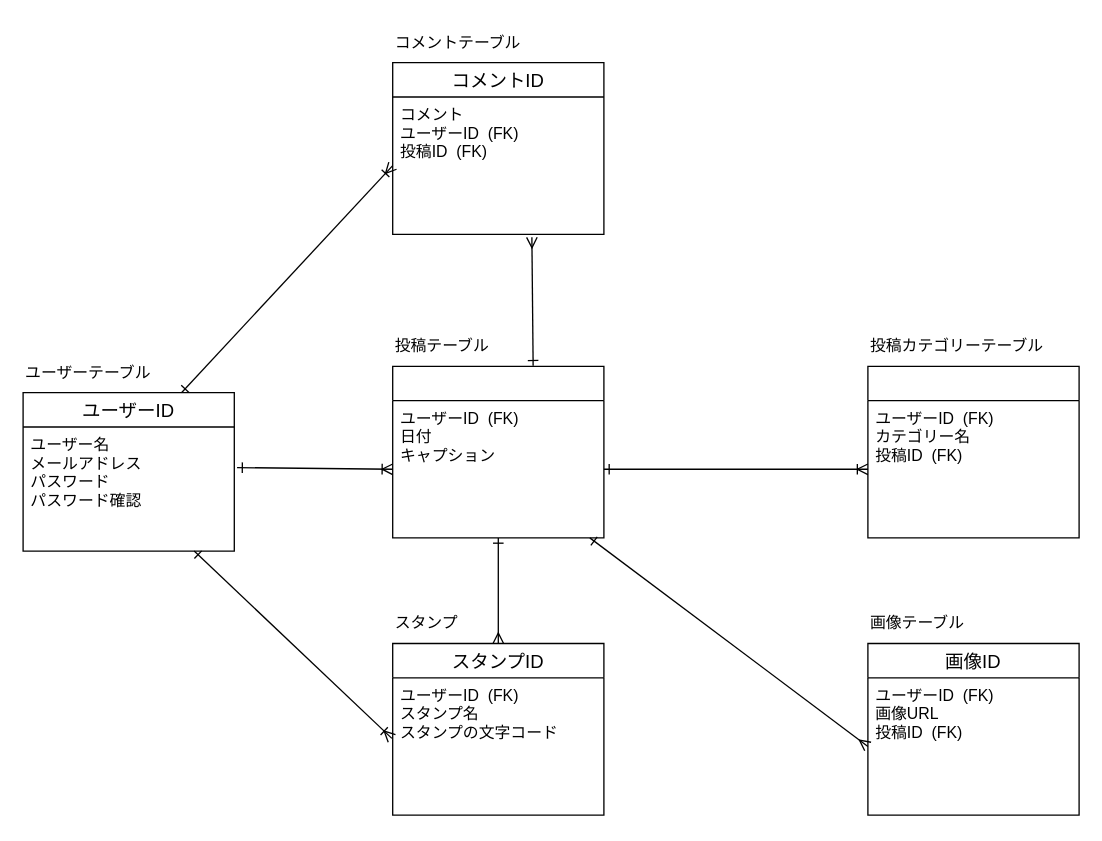
This 1102x841 diagram has some shape labels left out. Here are the shapes that lost their labels. From the top down, the box of each, then its label:
(391, 365, 604, 538): 投稿ID
(867, 365, 1079, 538): 投稿カテゴリーID
